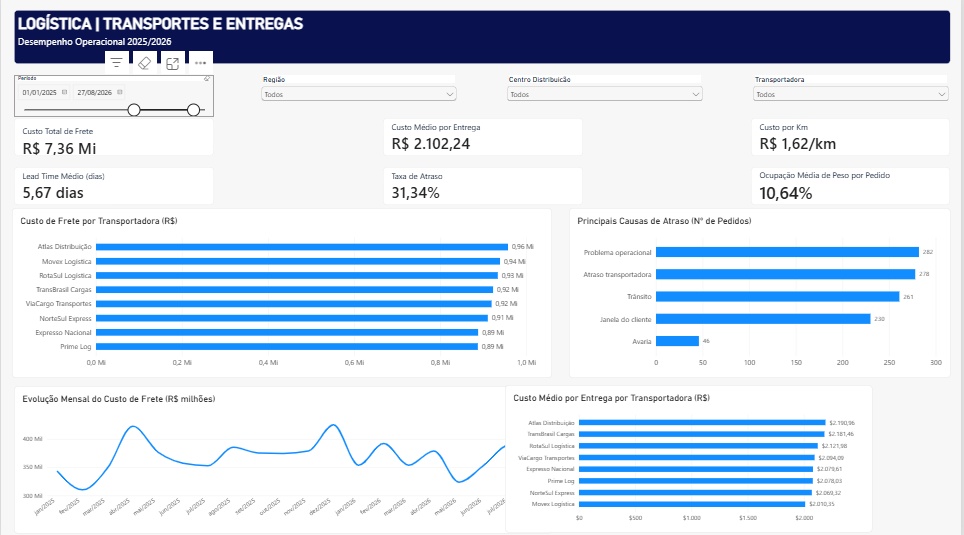

This screenshot's page, from the dashboard's own definition file:
{"tool":"powerbi","page":{"name":"Transportes e Entregas","canvas":[1920,1080],"ordinal":1},"visuals":[{"type":"textbox","title":"LOGÍSTICA | TRANSPORTES E ENTREGAS","box":[25,25,1872.5,107.5],"z":0},{"type":"slicer","fields":{"Values":["DimCalendario.Data"]},"box":[25,155,400,84],"z":1000},{"type":"slicer","fields":{"Values":["Clientes.Regiao"]},"box":[516.7,155,400,60],"z":2000},{"type":"slicer","fields":{"Values":["Centros_Distribuicao.Centro_Distribuicao"]},"box":[1008.3,155,400,73.3],"z":3000},{"type":"slicer","fields":{"Values":["Transportadoras.Transportadora"]},"box":[1500,155,400,60],"z":4000},{"type":"cardVisual","fields":{"Data":["Pedidos_Entregas.Custo Frete Formatado"]},"box":[25,242.5,400,75],"z":5000},{"type":"cardVisual","fields":{"Data":["Pedidos_Entregas.Custo por Entrega Formatado"]},"box":[763,242,400,76],"z":6000},{"type":"cardVisual","fields":{"Data":["Pedidos_Entregas.Custo por Km Formatado"]},"box":[1500,242,398,76],"z":7000},{"type":"cardVisual","fields":{"Data":["Pedidos_Entregas.Lead Time Formatado"]},"box":[26,340,400,76],"z":8000},{"type":"cardVisual","fields":{"Data":["Pedidos_Entregas.% Entregas Atrasadas"]},"box":[763,340,400,76],"z":9000},{"type":"cardVisual","fields":{"Data":["Pedidos_Entregas.Ocupação Média de Peso"]},"box":[1500,340,398,76],"z":10000},{"type":"clusteredBarChart","title":"Custo de Frete por Transportadora (R$)","fields":{"Category":["Transportadoras.Transportadora"],"Y":["Pedidos_Entregas.Custo Frete"]},"box":[22.5,422.5,1080,340],"z":11000},{"type":"clusteredBarChart","title":"Principais Causas de Atraso (Nº de Pedidos)","fields":{"Category":["Pedidos_Entregas.Ocorrencia"],"Y":["Pedidos_Entregas.Quantidade de Pedidos Atrasados"]},"box":[1135,422.5,762.5,340],"z":12000},{"type":"lineChart","title":"Evolução Mensal do Custo de Frete (R$ milhões)","fields":{"Category":["DimCalendario.Mes_Ano"],"Y":["Pedidos_Entregas.Custo Frete"]},"box":[25,777.5,1077.5,295],"z":13000},{"type":"clusteredBarChart","title":"Custo Médio por Entrega por Transportadora (R$) ","fields":{"Category":["Transportadoras.Transportadora"],"Y":["Pedidos_Entregas.Custo Médio por Entrega"]},"box":[1008.3,776.7,735,295],"z":14000}]}

Visuals, with their boxes in screenshot pixels (x1, y1, x2, y2), scaled from the page's 1920x1080 canvas onto the 964x535 screenshot:
"LOGÍSTICA | TRANSPORTES E ENTREGAS" textbox: {"x1": 13, "y1": 12, "x2": 953, "y2": 66}
slicer - DimCalendario.Data: {"x1": 13, "y1": 77, "x2": 213, "y2": 118}
slicer - Clientes.Regiao: {"x1": 259, "y1": 77, "x2": 460, "y2": 107}
slicer - Centros_Distribuicao.Centro_Distribuicao: {"x1": 506, "y1": 77, "x2": 707, "y2": 113}
slicer - Transportadoras.Transportadora: {"x1": 753, "y1": 77, "x2": 954, "y2": 107}
cardVisual - Pedidos_Entregas.Custo Frete Formatado: {"x1": 13, "y1": 120, "x2": 213, "y2": 157}
cardVisual - Pedidos_Entregas.Custo por Entrega Formatado: {"x1": 383, "y1": 120, "x2": 584, "y2": 158}
cardVisual - Pedidos_Entregas.Custo por Km Formatado: {"x1": 753, "y1": 120, "x2": 953, "y2": 158}
cardVisual - Pedidos_Entregas.Lead Time Formatado: {"x1": 13, "y1": 168, "x2": 214, "y2": 206}
cardVisual - Pedidos_Entregas.% Entregas Atrasadas: {"x1": 383, "y1": 168, "x2": 584, "y2": 206}
cardVisual - Pedidos_Entregas.Ocupação Média de Peso: {"x1": 753, "y1": 168, "x2": 953, "y2": 206}
"Custo de Frete por Transportadora (R$)" clusteredBarChart: {"x1": 11, "y1": 209, "x2": 554, "y2": 378}
"Principais Causas de Atraso (Nº de Pedidos)" clusteredBarChart: {"x1": 570, "y1": 209, "x2": 953, "y2": 378}
"Evolução Mensal do Custo de Frete (R$ milhões)" lineChart: {"x1": 13, "y1": 385, "x2": 554, "y2": 531}
"Custo Médio por Entrega por Transportadora (R$) " clusteredBarChart: {"x1": 506, "y1": 385, "x2": 875, "y2": 531}
